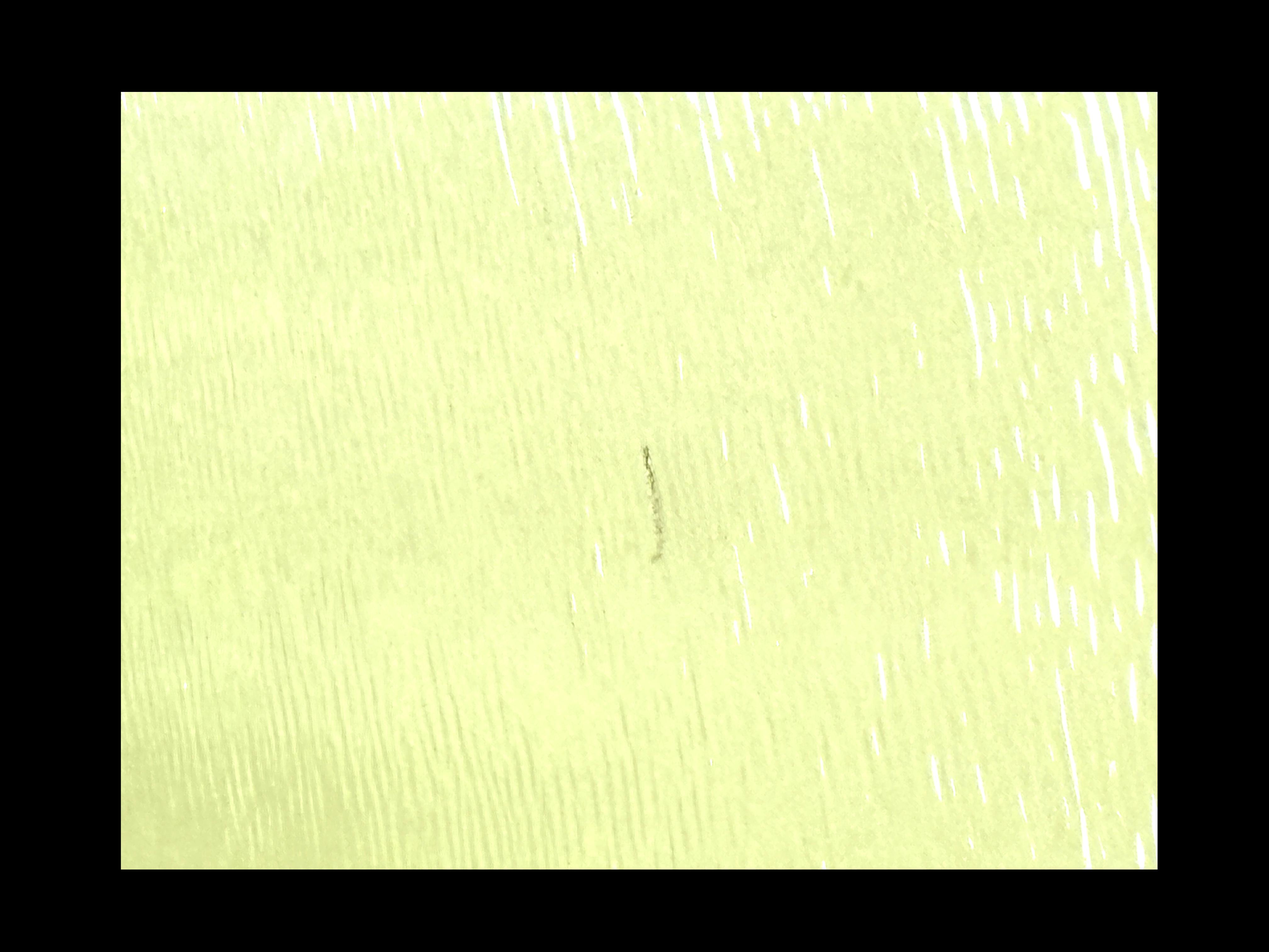Other: (681, 421, 704, 537)
